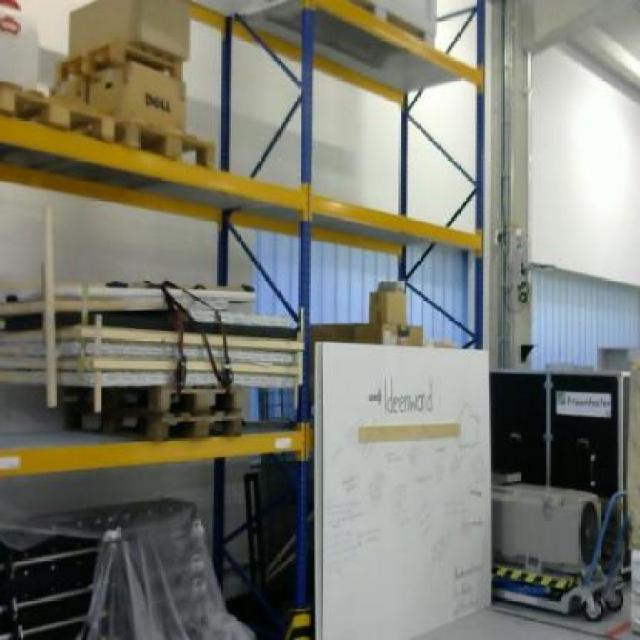box: (70, 0, 188, 65), (88, 60, 185, 129), (366, 288, 404, 322)
